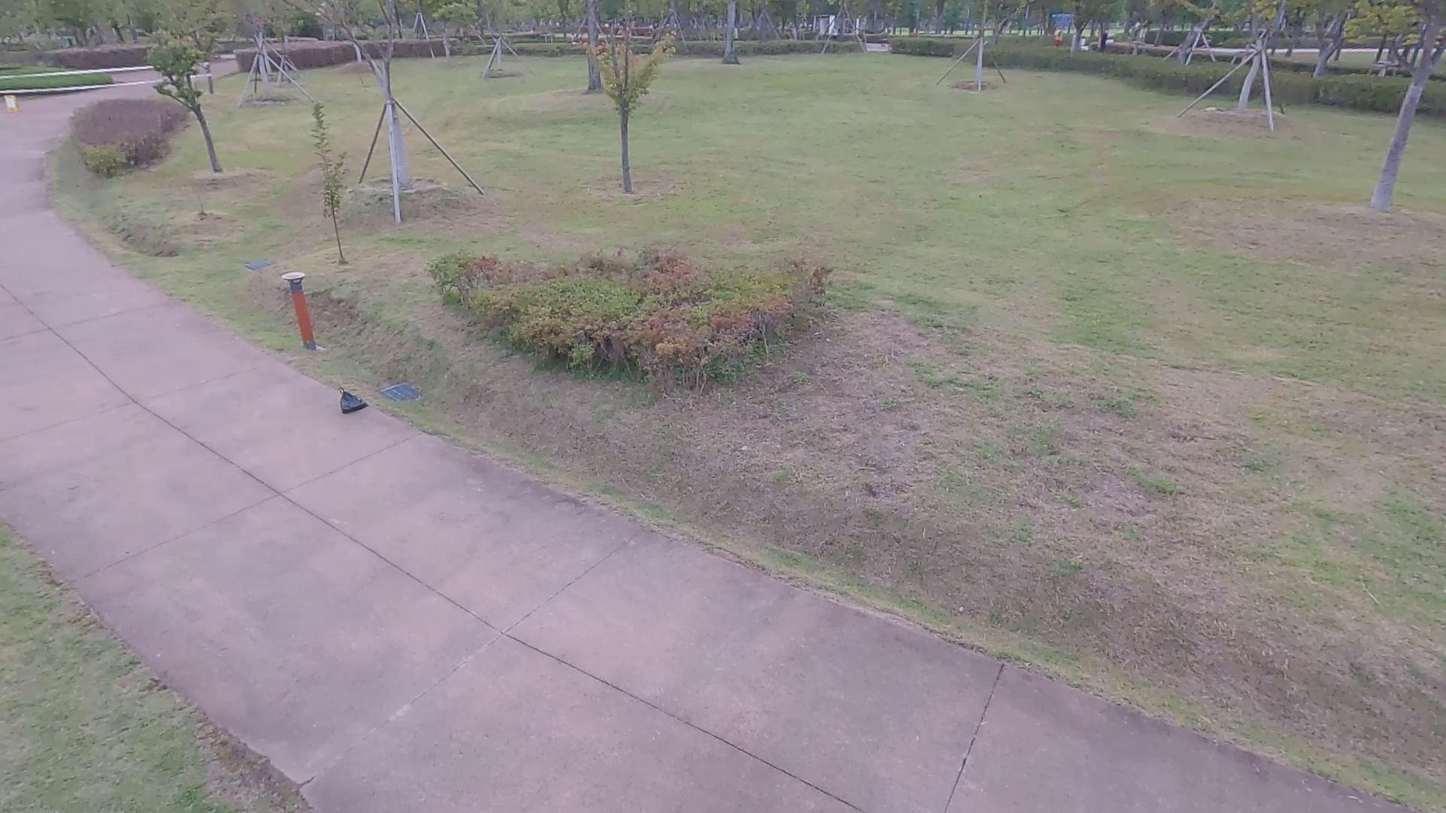trash: (335, 378, 366, 417)
